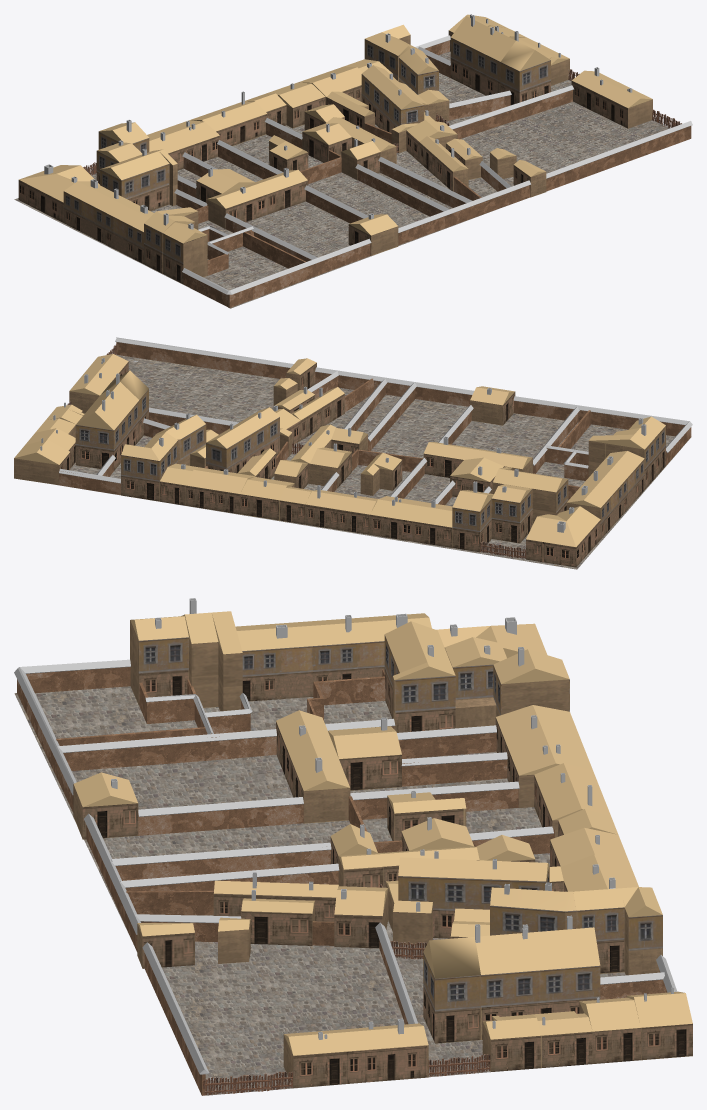
The model's file is IDL_Etape2.dae.
3 views of the same model, one above another, from view 1: azimuth 30°, elevation 25°; view 2: azimuth 150°, elevation 25°; view 3: azimuth 270°, elevation 25° (orthographic). The views are drawn at different scales.
Parts seen in each view (by area): view 1: Batis, Sol, Murs, Toit_Murs, Cheminees, Haies; view 2: Batis, Sol, Murs, Toit_Murs, Cheminees, Haies; view 3: Batis, Sol, Murs, Toit_Murs, Cheminees, Haies.
Part boxes in pixels (<box>): Batis: <box>18,14,652,283</box>; Sol: <box>14,51,670,308</box>; Murs: <box>176,40,691,307</box>; Toit_Murs: <box>174,35,692,294</box>; Cheminees: <box>44,14,632,229</box>; Haies: <box>83,69,682,175</box>; Batis: <box>14,354,665,567</box>; Sol: <box>55,355,690,569</box>; Murs: <box>59,342,691,505</box>; Toit_Murs: <box>59,337,692,503</box>; Cheminees: <box>40,358,646,532</box>; Haies: <box>67,344,525,558</box>; Batis: <box>73,611,692,1088</box>; Sol: <box>14,686,625,1095</box>; Murs: <box>17,667,667,1095</box>; Toit_Murs: <box>14,659,677,1074</box>; Cheminees: <box>111,598,673,1039</box>; Haies: <box>203,884,490,1095</box>.
Bounding box in the file's own units: 371 × 241 × 41.06.
